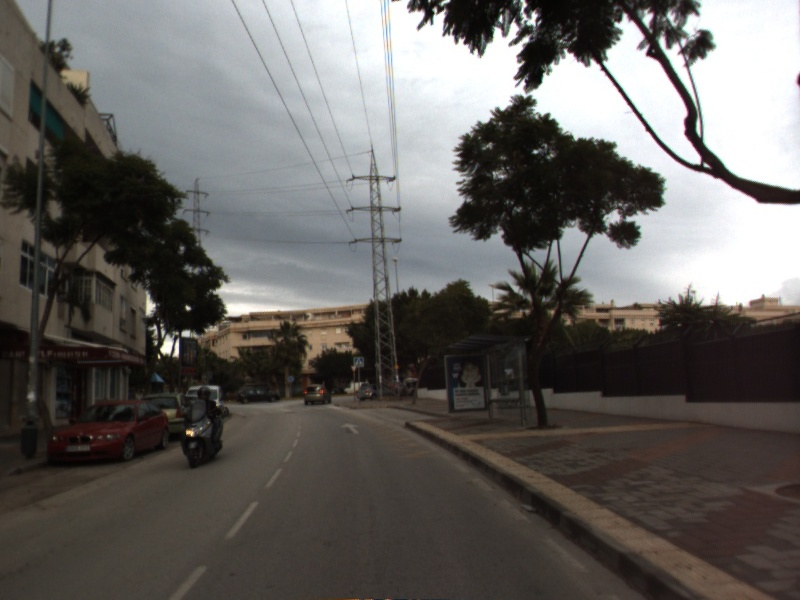STRAIGHT: (338, 421, 362, 436)
